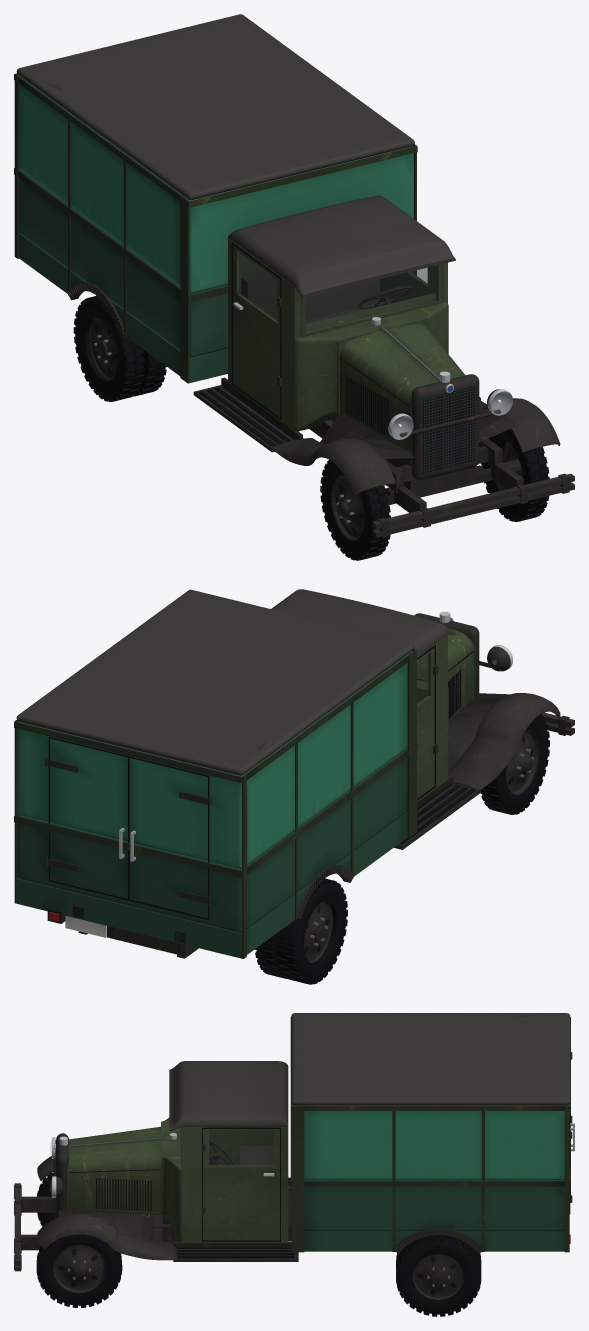
File: gaz_aa_van.glb
The picture shows the model from 3 angles, top to bottom: view 1: azimuth 30°, elevation 25°; view 2: azimuth 150°, elevation 25°; view 3: azimuth 270°, elevation 25°; orthographic projection. The views are drawn at different scales.
Parts seen in each view (by area): view 1: gaz_aa_van; view 2: gaz_aa_van; view 3: gaz_aa_van.
Part boxes in pixels (box(x1,y1,x2,y2)): gaz_aa_van: box(14, 14, 574, 560); gaz_aa_van: box(14, 589, 574, 984); gaz_aa_van: box(14, 1013, 574, 1316).
Size of the model in its own units: 2.05 by 2.29 by 5.37.
21 materials, 7 textured.
